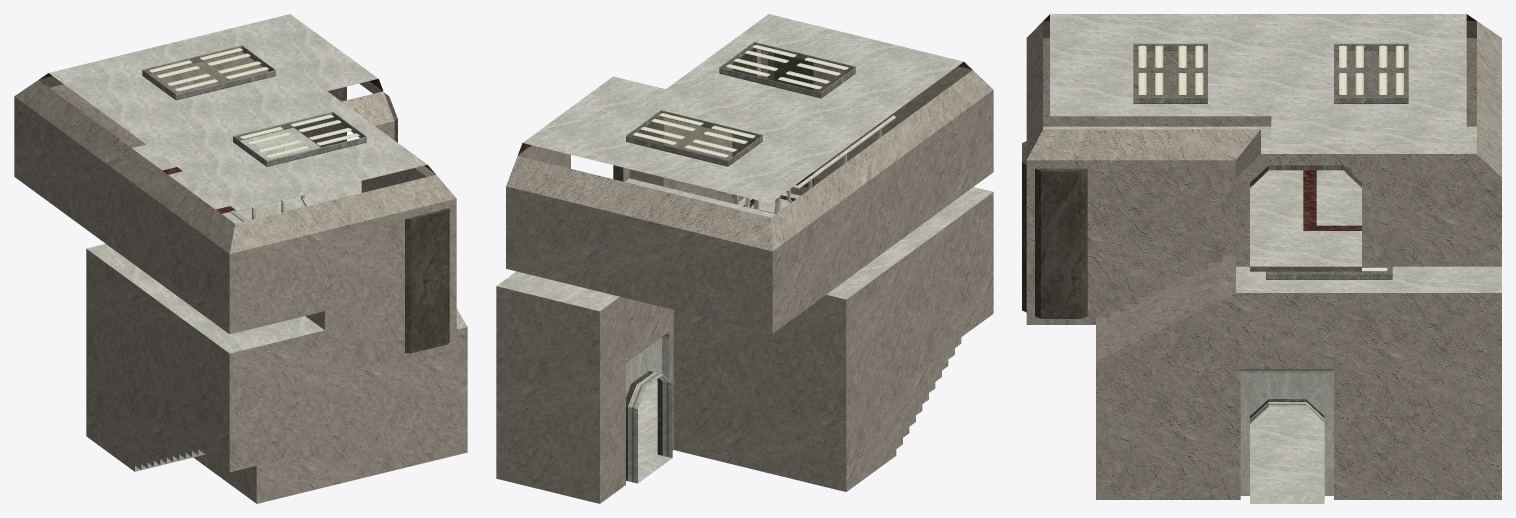
The model's file is ply_tato_assoc_hall_civ_s01_r6_stairwellb_mesh_stairwellb.fbx.
3 views of the same model, side by side, from view 1: azimuth 30°, elevation 25°; view 2: azimuth 150°, elevation 25°; view 3: azimuth 270°, elevation 25° (orthographic). The views are drawn at different scales.
Parts seen in each view (by area): view 1: mesh_node; view 2: mesh_node; view 3: mesh_node.
Boxes of the visible parts, <box> form: mesh_node: <box>14,14,467,503</box>; mesh_node: <box>496,14,993,503</box>; mesh_node: <box>1022,14,1501,503</box>.
Size of the model in its own units: 9.45 by 10.58 by 12.86.
